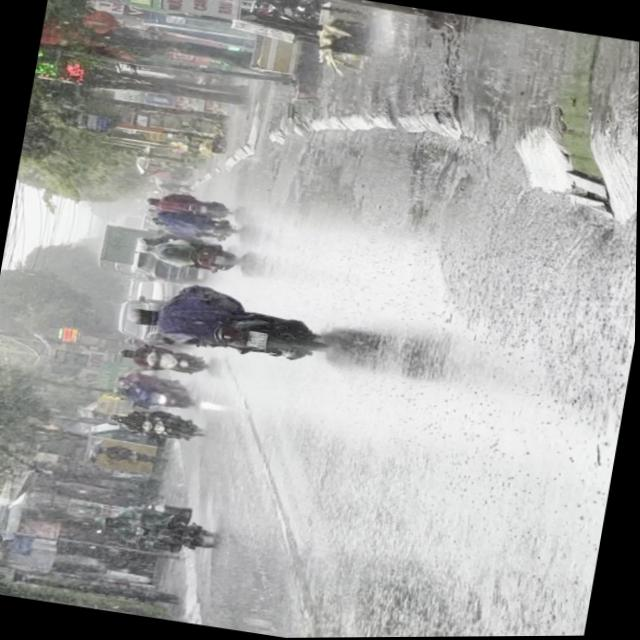helmet: (124, 307, 155, 329)
licenseplate: (118, 281, 334, 373)
nohelmet: (246, 331, 267, 351)
